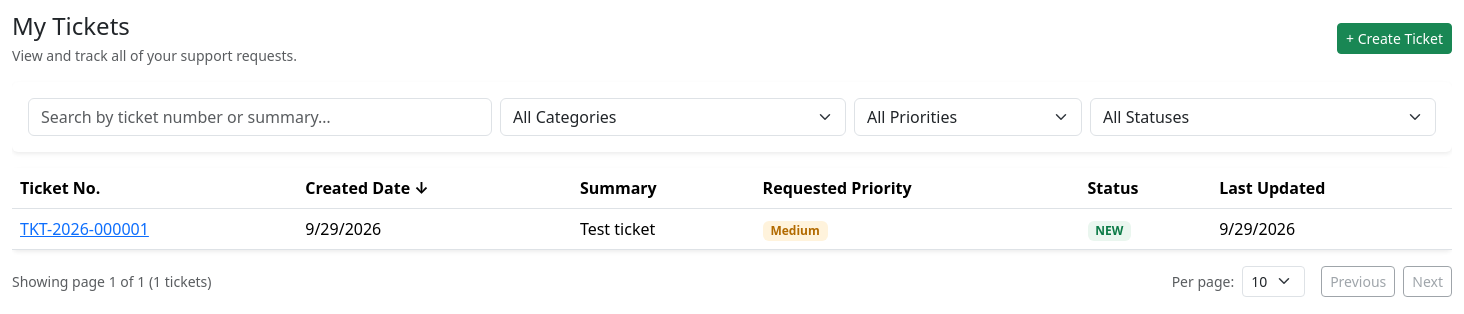
MyTickets › shows a sort-direction arrow on the active sorted column
The image size is (1464, 314).
Click the button "Created Date ↓".
click(360, 188)  # box [297,168,572,208]
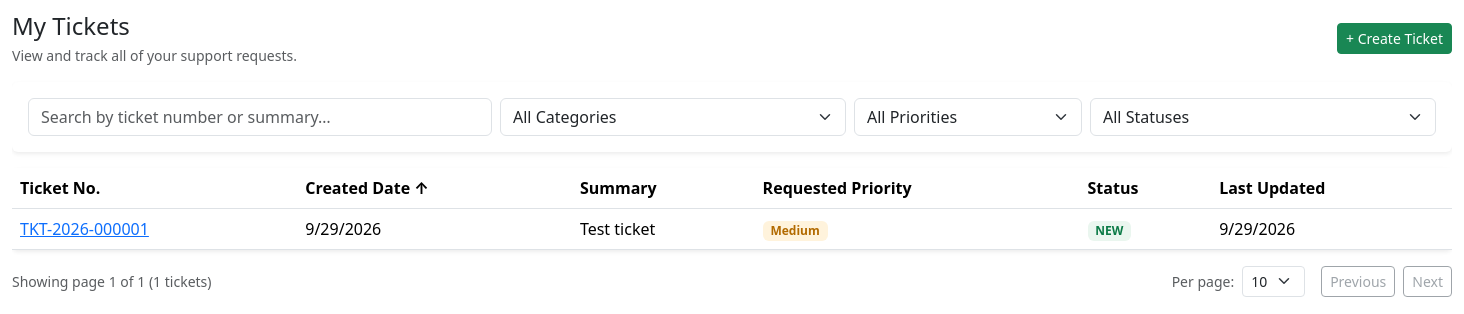
Result: the button "Created Date ↑" is shown at [297,168,572,208]
